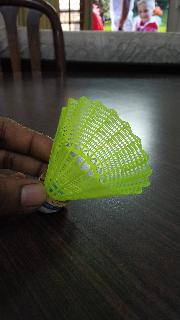shuttlecock: (38, 97, 150, 213)
